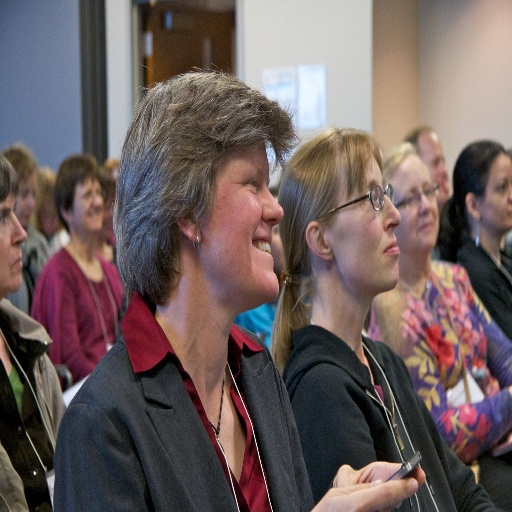hand: (308, 478, 418, 511), (331, 457, 426, 488)
